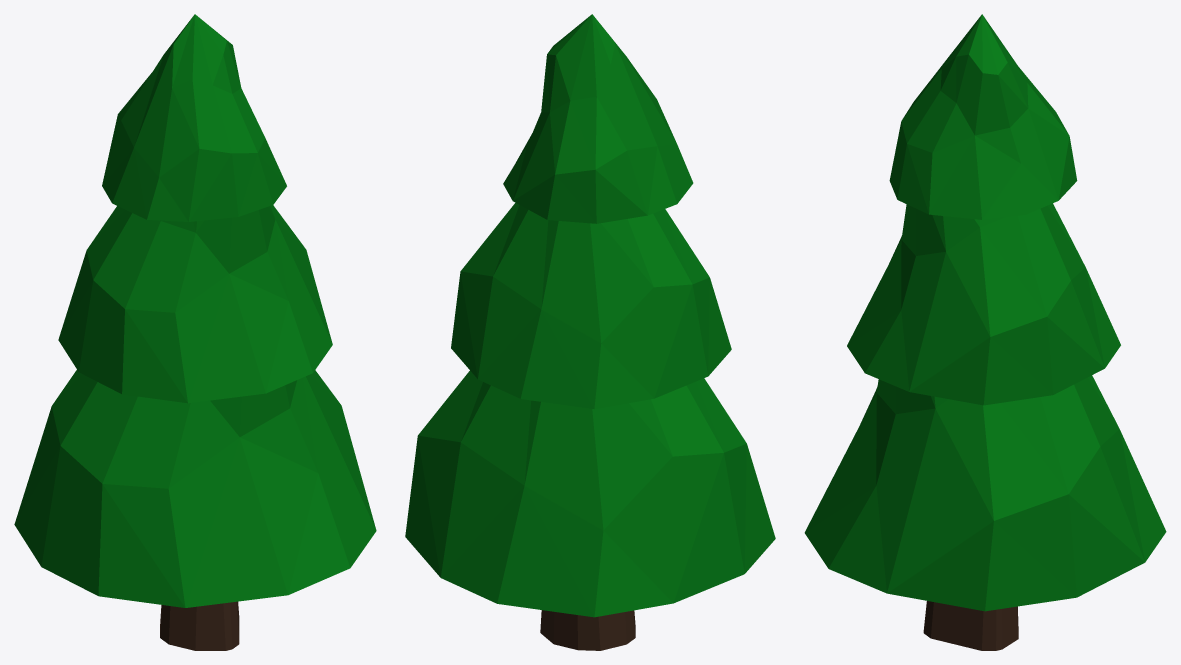
Rendered from Arvore.fbx.
3 views of the same model, side by side, from view 1: azimuth 30°, elevation 25°; view 2: azimuth 150°, elevation 25°; view 3: azimuth 270°, elevation 25° (orthographic).
Parts seen in each view (by area): view 1: Cylinder.021, Cylinder.020; view 2: Cylinder.021, Cylinder.020; view 3: Cylinder.021, Cylinder.020.
Part boxes in pixels (<box>): Cylinder.021: <box>14,14,376,607</box>; Cylinder.020: <box>160,601,239,650</box>; Cylinder.021: <box>405,14,775,617</box>; Cylinder.020: <box>540,610,635,650</box>; Cylinder.021: <box>804,14,1166,611</box>; Cylinder.020: <box>923,601,1018,650</box>.
Size of the model in its own units: 445 by 824 by 439.
